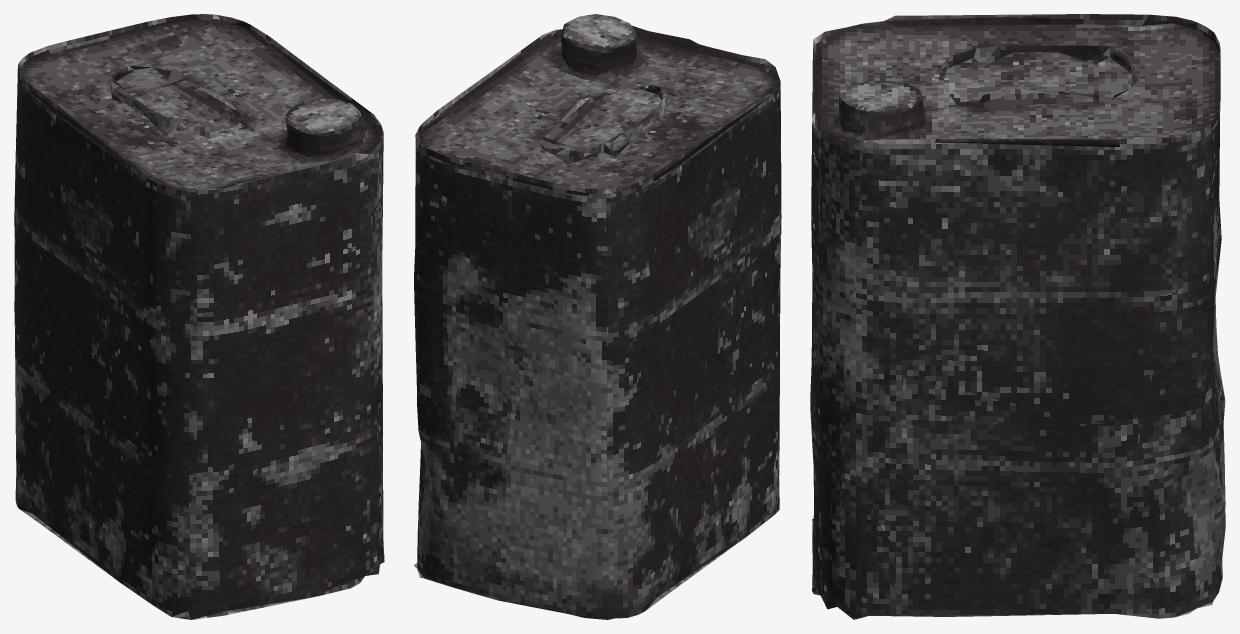
The model's file is oil_tin.glb.
The picture shows the model from 3 angles, left to right: view 1: azimuth 30°, elevation 25°; view 2: azimuth 150°, elevation 25°; view 3: azimuth 270°, elevation 25°; orthographic projection. The views are drawn at different scales.
Parts seen in each view (by area): view 1: body; view 2: body; view 3: body.
Part boxes in pixels (bbox=[...]): body: bbox=[14, 14, 384, 619]; body: bbox=[414, 14, 781, 619]; body: bbox=[810, 14, 1225, 619].
Size of the model in its own units: 0.1143 by 0.2054 by 0.154.
1 material, 1 textured.
